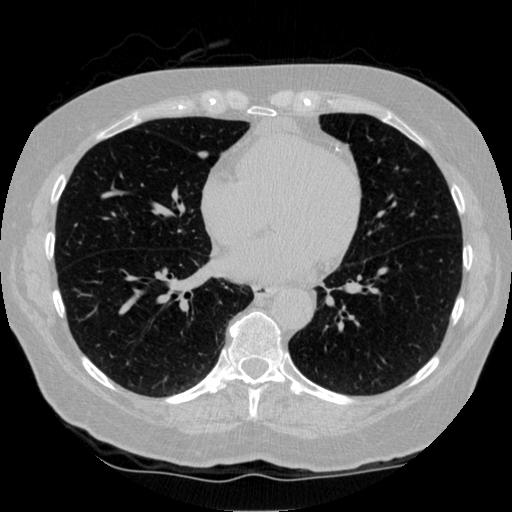nodule: (195, 147, 210, 162)
